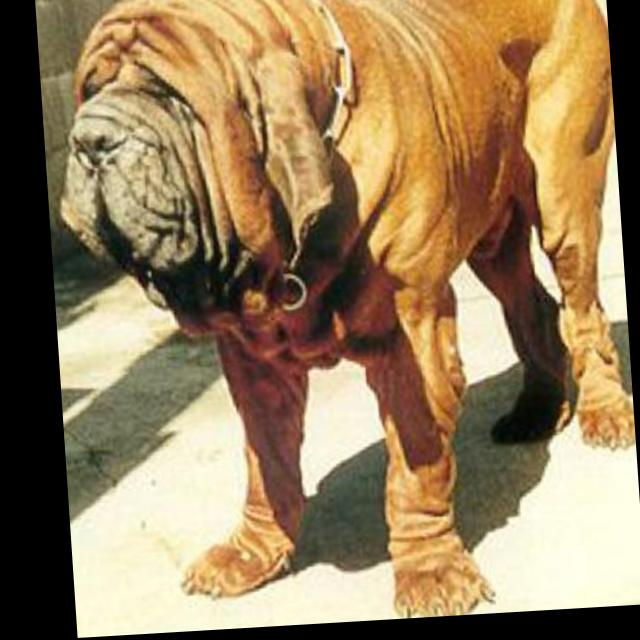mastino_napoletano: (47, 1, 639, 639)
